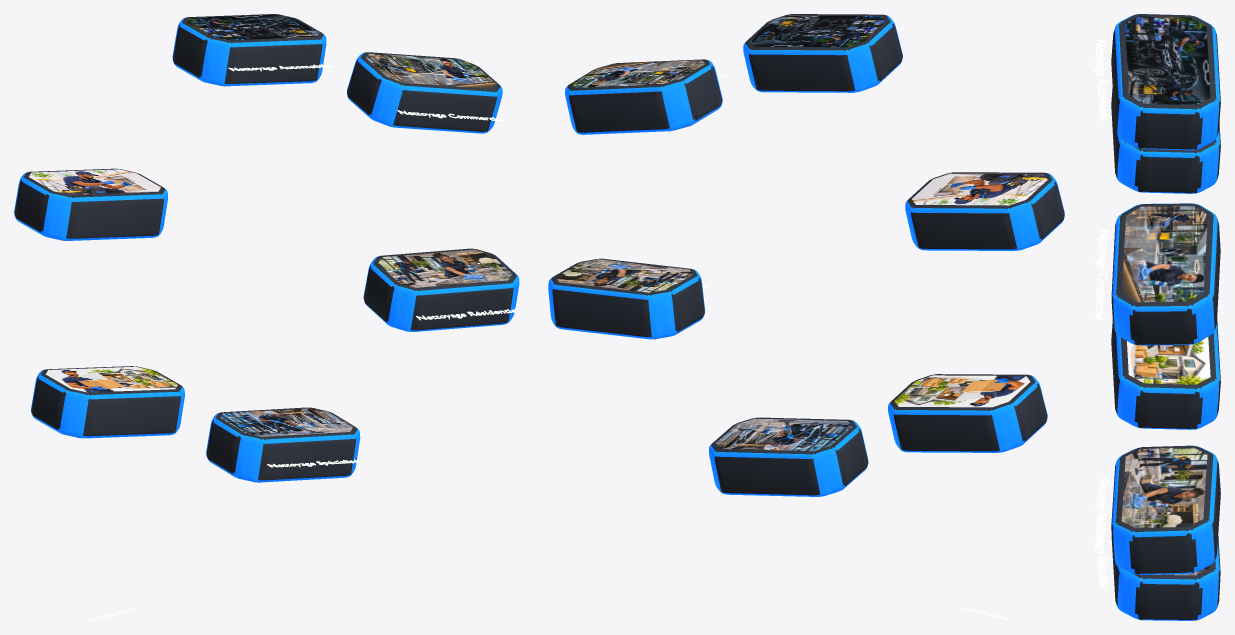
File: ngw-services.glb
The picture shows the model from 3 angles, left to right: view 1: azimuth 30°, elevation 25°; view 2: azimuth 150°, elevation 25°; view 3: azimuth 270°, elevation 25°; orthographic projection. The views are drawn at different scales.
Visible parts, largest first — view 1: NGW_Residential, NGW_Commercial, NGW_Specialized, NGW_Demenagement, NGW_PetiteMaintenance, NGW_Automotive; view 2: NGW_PetiteMaintenance, NGW_Automotive, NGW_Demenagement, NGW_Specialized, NGW_Residential, NGW_Commercial; view 3: NGW_Commercial, NGW_Automotive, NGW_Residential, NGW_Demenagement, NGW_Specialized, NGW_PetiteMaintenance, NGW_Commercial_Label, NGW_Automotive_Label, NGW_Residential_Label, NGW_Specialized_Label.
Boxes of the visible parts, x1,y1,x2,y2 form: NGW_Residential: (363, 248, 519, 331); NGW_Commercial: (347, 52, 502, 133); NGW_Specialized: (206, 407, 360, 482); NGW_Demenagement: (31, 366, 184, 438); NGW_PetiteMaintenance: (14, 168, 167, 240); NGW_Automotive: (172, 14, 326, 86); NGW_PetiteMaintenance: (905, 172, 1064, 250); NGW_Automotive: (743, 14, 902, 92); NGW_Demenagement: (888, 374, 1047, 452); NGW_Specialized: (709, 417, 868, 496); NGW_Residential: (548, 258, 705, 339); NGW_Commercial: (565, 59, 722, 134); NGW_Commercial: (1111, 203, 1220, 345); NGW_Automotive: (1111, 14, 1220, 150); NGW_Residential: (1111, 445, 1220, 574); NGW_Demenagement: (1111, 319, 1220, 429); NGW_Specialized: (1111, 536, 1220, 620); NGW_PetiteMaintenance: (1111, 88, 1220, 193); NGW_Commercial_Label: (1094, 230, 1109, 320); NGW_Automotive_Label: (1093, 39, 1109, 121); NGW_Residential_Label: (1094, 476, 1109, 547); NGW_Specialized_Label: (1093, 517, 1108, 588).
Size of the model in its own units: 28.92 by 31.82 by 5.9.
Materials: 19 (6 with a texture image).
